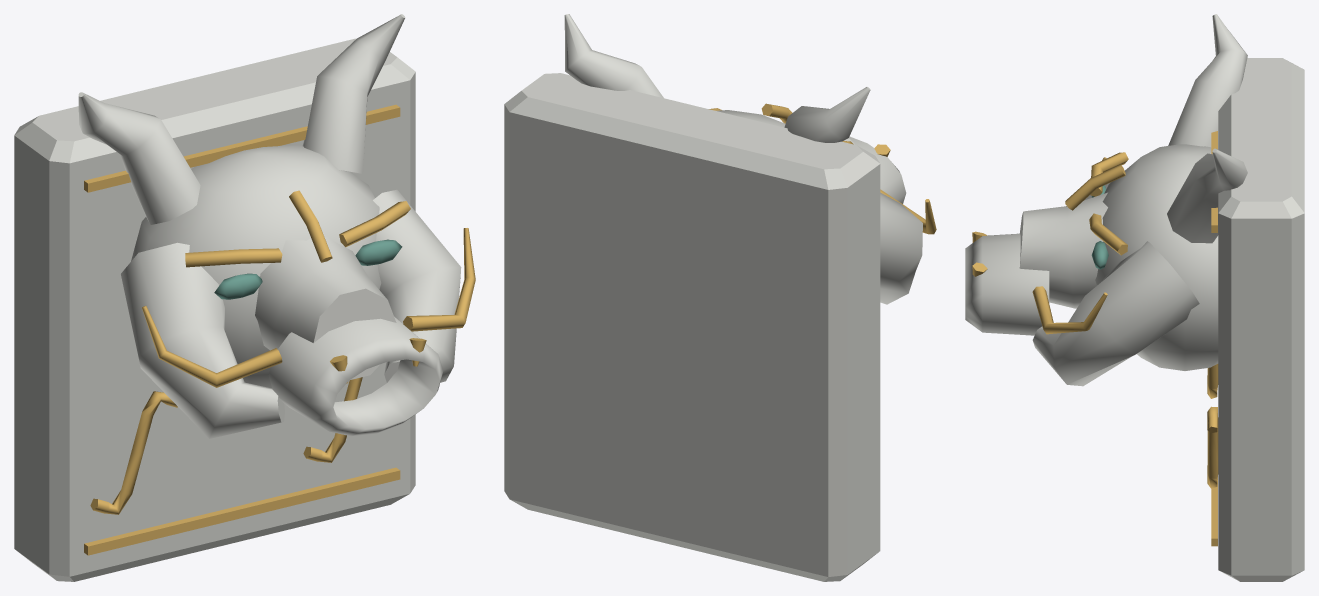
The model's file is dragon_spout.glb.
3 views of the same model, side by side, from view 1: azimuth 30°, elevation 25°; view 2: azimuth 150°, elevation 25°; view 3: azimuth 270°, elevation 25° (orthographic). The views are drawn at different scales.
Visible parts, largest first — view 1: dragon_spout_Stone, dragon_spout_Gold, dragon_spout_Jade; view 2: dragon_spout_Stone, dragon_spout_Gold; view 3: dragon_spout_Stone, dragon_spout_Gold.
Part boxes in pixels (x1,y1,x2,y2): dragon_spout_Stone: (14,14,461,581); dragon_spout_Gold: (84,104,475,555); dragon_spout_Jade: (214,239,402,299); dragon_spout_Stone: (504,14,922,581); dragon_spout_Gold: (709,103,936,234); dragon_spout_Stone: (965,14,1304,581); dragon_spout_Gold: (972,131,1218,546).
Size of the model in its own units: 1.48 by 1.92 by 1.38.
